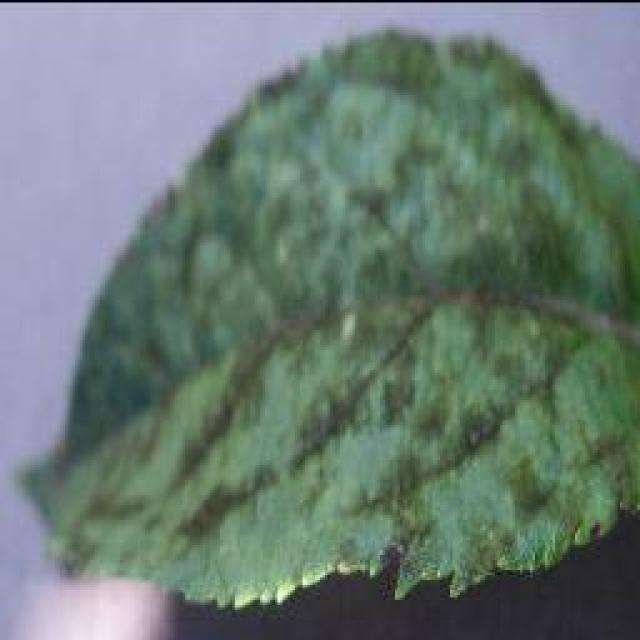apple scab disease: (15, 25, 637, 613)
